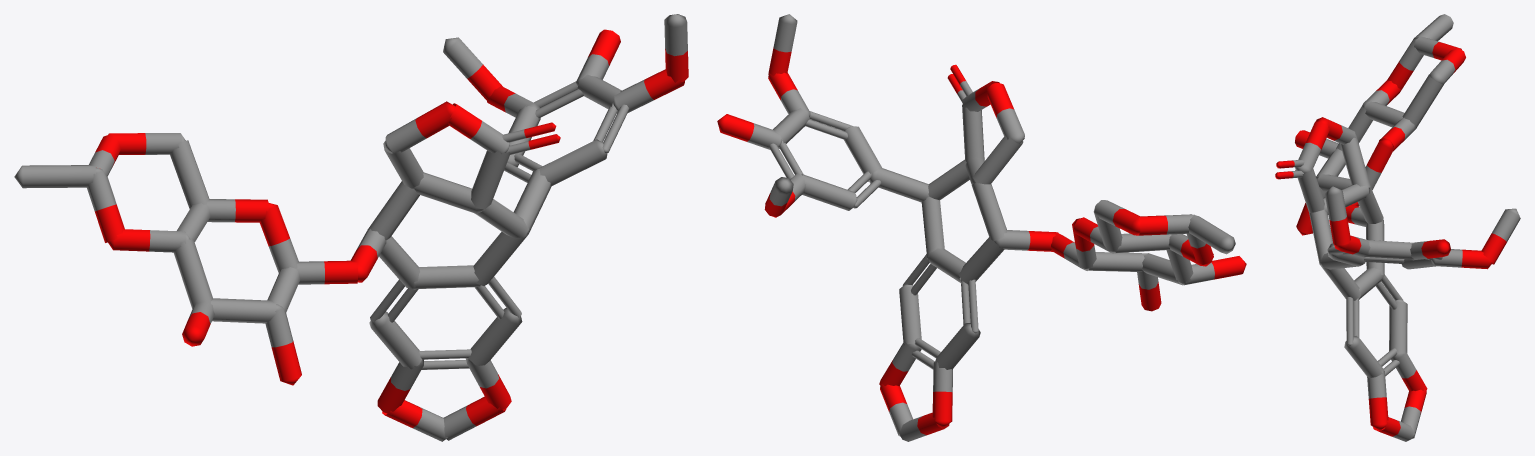
File: etopos.glb
3 views of the same model, side by side, from view 1: azimuth 30°, elevation 25°; view 2: azimuth 150°, elevation 25°; view 3: azimuth 270°, elevation 25° (orthographic). The views are drawn at different scales.
Parts seen in each view (by area): view 1: node-geom15; view 2: node-geom15; view 3: node-geom15.
Part boxes in pixels (bbox=[...]): node-geom15: bbox=[14, 14, 688, 441]; node-geom15: bbox=[717, 14, 1246, 441]; node-geom15: bbox=[1275, 14, 1520, 441].
Size of the model in its own units: 15.02 by 9.86 by 6.75.
